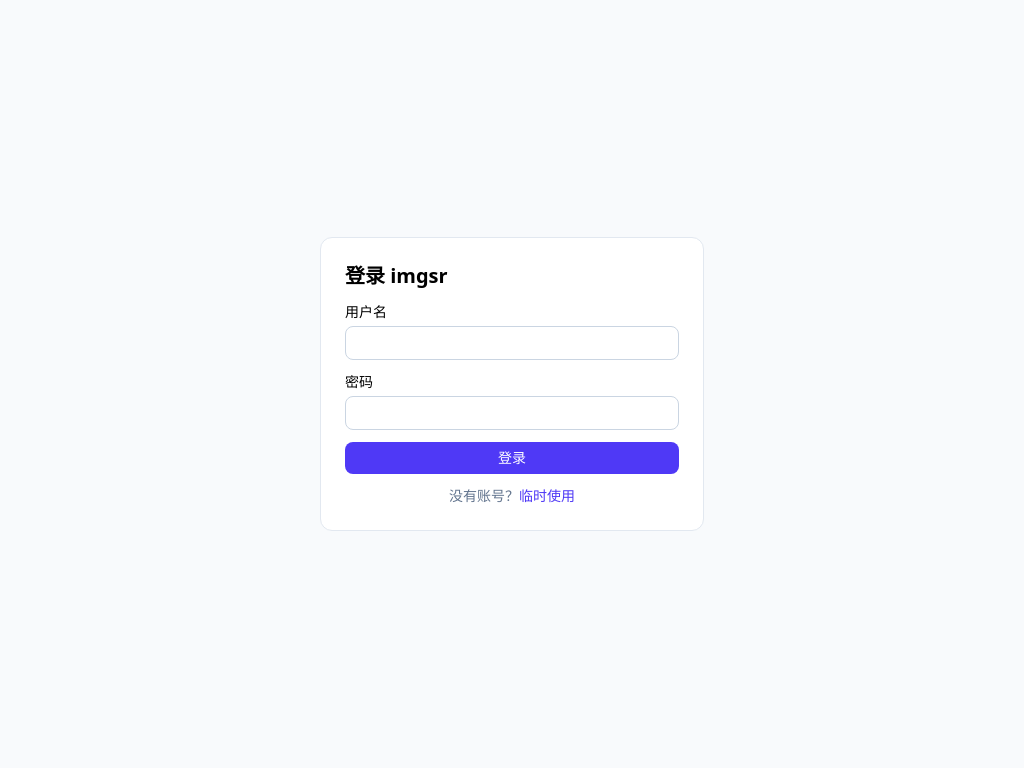
it: logging in returns to the page the user came from
The image size is (1024, 768).
Type "alice" into the field labelled "用户名".
click(512, 343); type("alice")  # box [345,326,679,360]
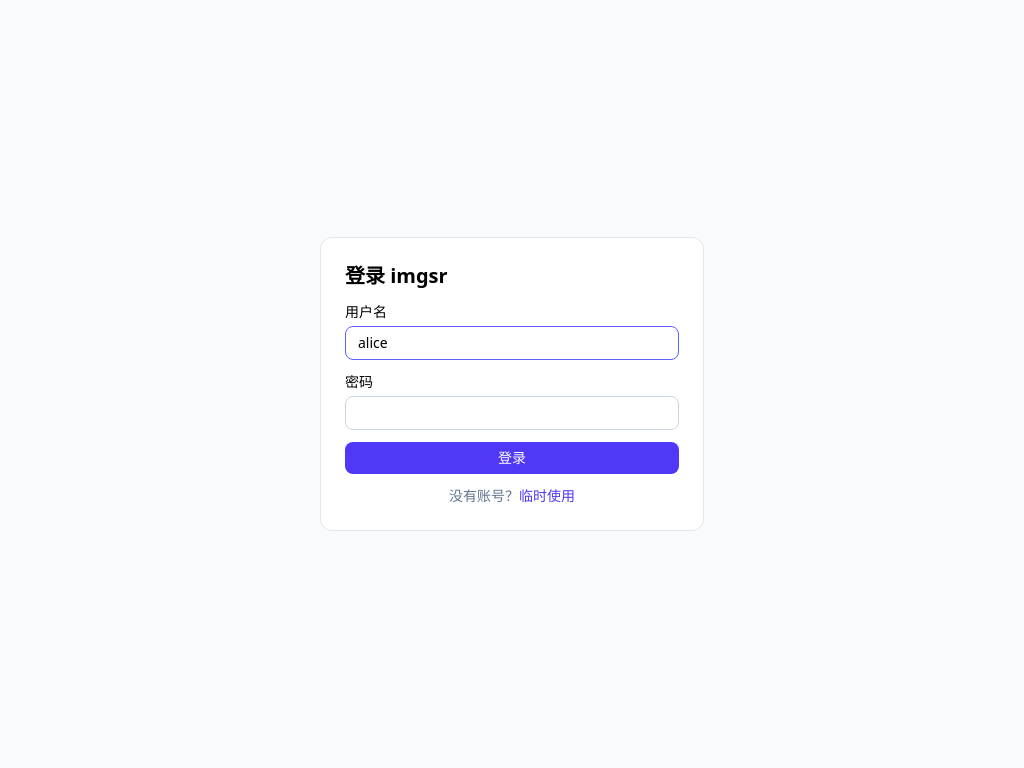
Type "password123" into the password field labelled "密码".
click(512, 413); type("password123")  # box [345,396,679,430]
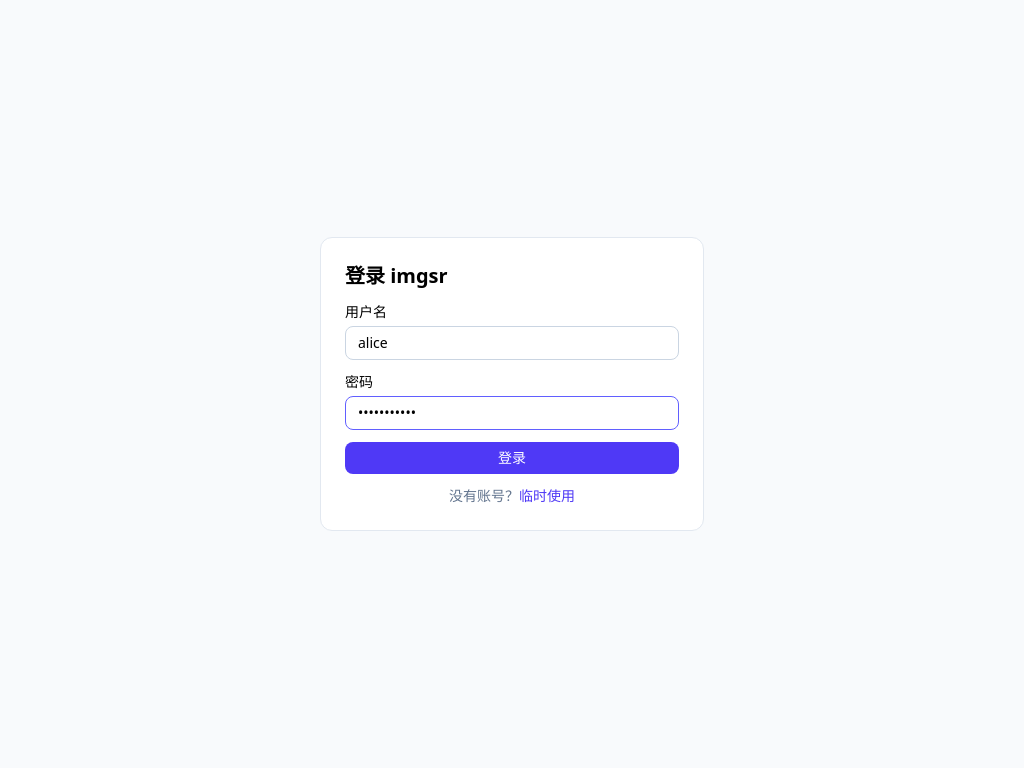
Click the button "登录".
click(512, 458)  # box [345,442,679,474]
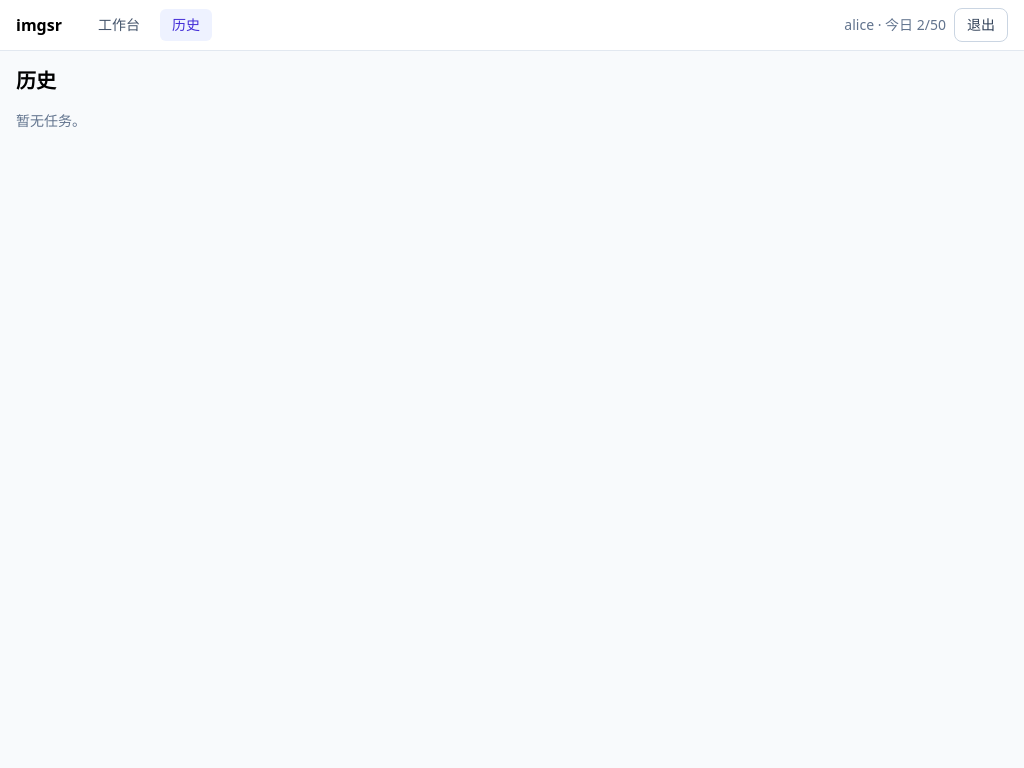
expect the heading "历史" is shown: met, box [16,67,56,94]
expect the text "alice · 今日 2/50" is shown: met, box [844,15,946,35]
